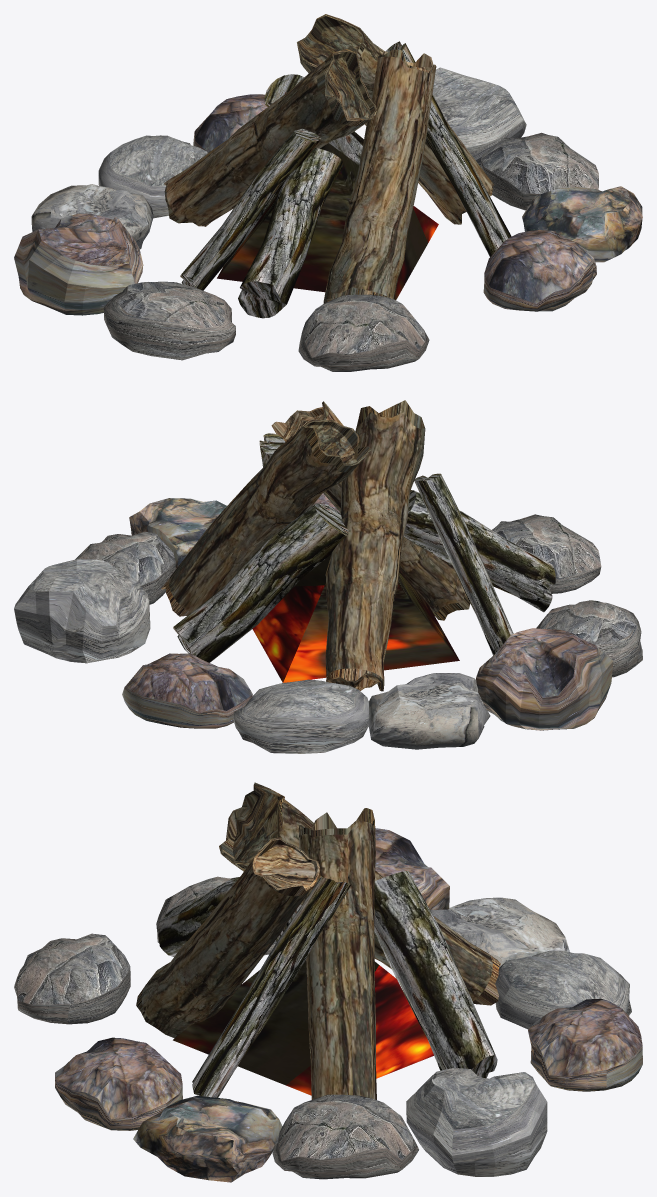
The model's file is thing 1.fbx.
The picture shows the model from 3 angles, top to bottom: view 1: azimuth 30°, elevation 25°; view 2: azimuth 150°, elevation 25°; view 3: azimuth 270°, elevation 25°; orthographic projection. The views are drawn at different scales.
Visible parts, largest first — view 1: pCylinder24, pCylinder27, pCylinder23, pCylinder20, pCylinder16, pCylinder5, pCylinder14, pPyramid1, pCube1, pCylinder10, pCylinder26, pCylinder6 (+6 smaller); view 2: pCylinder27, pCylinder26, pCylinder22, pCylinder23, pCylinder1, pPyramid1, pCylinder21, pCube2, pCylinder9, pCylinder5, pCylinder6, pCylinder24 (+4 smaller); view 3: pCylinder26, pCylinder24, pCylinder22, pCylinder1, pPyramid1, pCylinder10, pCube1, pCylinder9, pCylinder14, pCylinder16, pCylinder7, pCylinder21 (+5 smaller).
Part boxes in pixels (bbox=[...]): pCylinder24: bbox=[323, 49, 436, 303]; pCylinder27: bbox=[164, 49, 377, 226]; pCylinder23: bbox=[14, 213, 143, 315]; pCylinder20: bbox=[104, 281, 235, 360]; pCylinder16: bbox=[298, 294, 429, 371]; pCylinder5: bbox=[238, 148, 342, 318]; pCylinder14: bbox=[483, 230, 596, 311]; pPyramid1: bbox=[217, 143, 438, 299]; pCube1: bbox=[522, 186, 642, 262]; pCylinder10: bbox=[481, 132, 598, 210]; pCylinder26: bbox=[297, 14, 494, 224]; pCylinder6: bbox=[180, 128, 320, 290]; pCylinder27: bbox=[325, 400, 425, 691]; pCylinder26: bbox=[161, 419, 371, 616]; pCylinder22: bbox=[14, 559, 150, 663]; pCylinder23: bbox=[476, 628, 613, 730]; pCylinder1: bbox=[173, 503, 348, 662]; pPyramid1: bbox=[252, 554, 459, 682]; pCylinder21: bbox=[233, 679, 368, 753]; pCube2: bbox=[368, 673, 490, 749]; pCylinder9: bbox=[122, 653, 252, 728]; pCylinder5: bbox=[404, 490, 555, 612]; pCylinder6: bbox=[414, 473, 513, 655]; pCylinder24: bbox=[271, 401, 470, 620]; pCylinder26: bbox=[298, 808, 376, 1099]; pCylinder24: bbox=[136, 837, 320, 1038]; pCylinder22: bbox=[406, 1067, 547, 1176]; pCylinder1: bbox=[374, 871, 497, 1078]; pPyramid1: bbox=[173, 960, 433, 1095]; pCylinder10: bbox=[272, 1094, 418, 1179]; pCube1: bbox=[133, 1096, 282, 1182]; pCylinder9: bbox=[528, 998, 642, 1091]; pCylinder14: bbox=[55, 1037, 182, 1130]; pCylinder16: bbox=[14, 933, 130, 1024]; pCylinder7: bbox=[192, 877, 350, 1097]; pCylinder21: bbox=[495, 950, 631, 1029].
Bounding box in the file's own units: 5.3 × 2.24 × 4.8.
6 materials, 6 textured.
